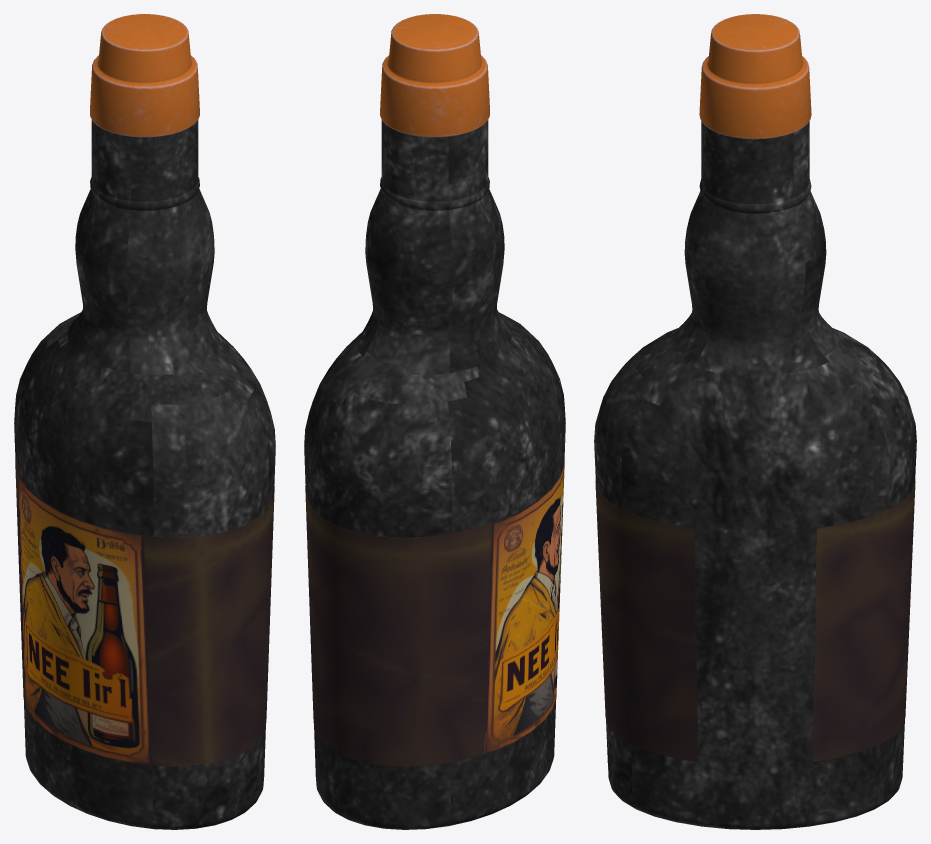
The model's file is SM_Bottle_02.fbx.
3 views of the same model, side by side, from view 1: azimuth 30°, elevation 25°; view 2: azimuth 150°, elevation 25°; view 3: azimuth 270°, elevation 25° (orthographic).
Visible parts, largest first — view 1: SM_Bottle_02; view 2: SM_Bottle_02; view 3: SM_Bottle_02.
Boxes of the visible parts, x1=… form: SM_Bottle_02: x1=14, y1=14, x2=275, y2=829; SM_Bottle_02: x1=304, y1=14, x2=565, y2=829; SM_Bottle_02: x1=594, y1=14, x2=916, y2=829.
Size of the model in its own units: 7.46 by 9.87 by 25.45.
2 materials, 2 textured.
